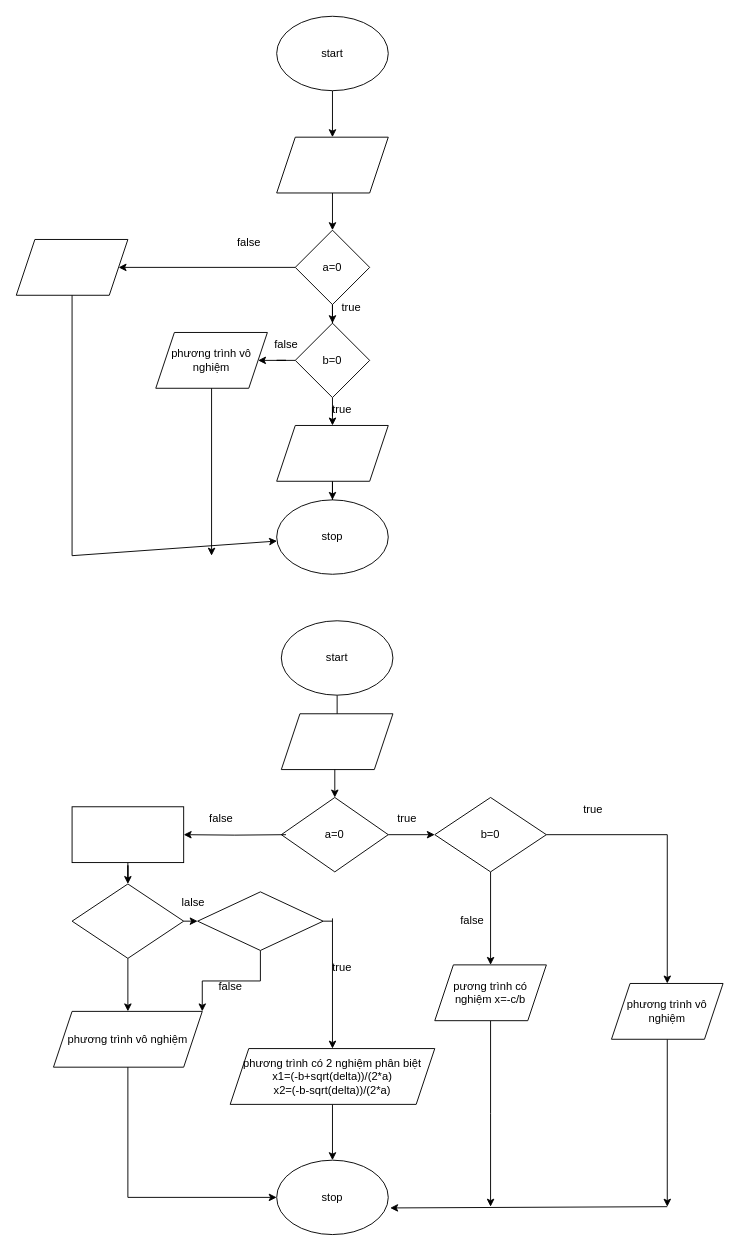
Some shapes in this 739 by 1251 pixel diagram are drawn without their labels. The centre of each missing label's shape, as x and y in pixels:
delta=0: [127,920]
delta=b*b-4*a*c: [127,834]
delta>=0: [260,920]
nhập a,b: [332,164]
nhập a,b,c: [336,741]
phương trình vô số nghiệm: [332,453]
pương trình có nghiệm x=-b/a: [71,267]
